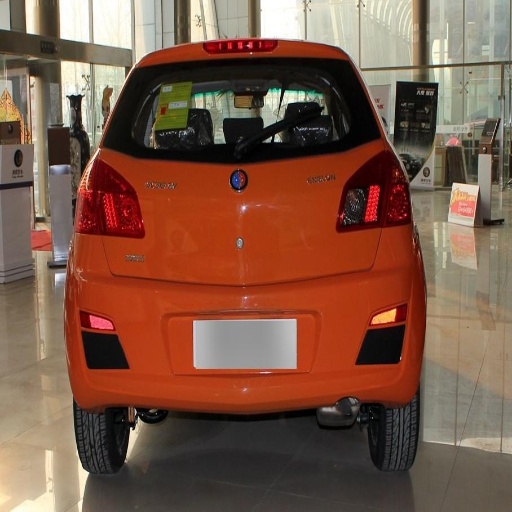back_bumper: (74, 225, 426, 407)
trunk: (100, 148, 392, 315)
